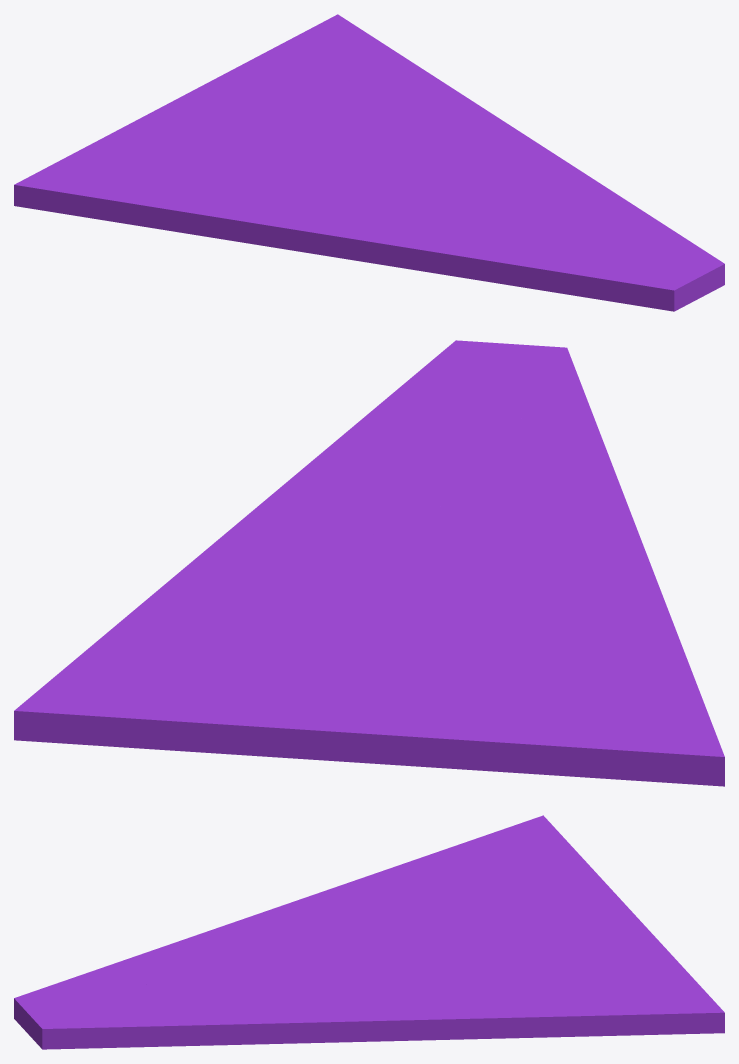
File: StairsStep_8_chunks.fbx
3 renders of one model, top to bottom at view 1: azimuth 30°, elevation 25°; view 2: azimuth 150°, elevation 25°; view 3: azimuth 270°, elevation 25°, orthographic. The views are drawn at different scales.
Parts seen in each view (by area): view 1: StairsStep_8_3, StairsStep_8_0, StairsStep_8_1, StairsStep_8_2; view 2: StairsStep_8_3, StairsStep_8_0, StairsStep_8_1, StairsStep_8_2; view 3: StairsStep_8_3, StairsStep_8_1, StairsStep_8_0, StairsStep_8_2.
Part boxes in pixels (left/top/right/bottom): StairsStep_8_3: left=54, top=14, right=524, bottom=189; StairsStep_8_0: left=14, top=164, right=483, bottom=281; StairsStep_8_1: left=453, top=135, right=724, bottom=311; StairsStep_8_2: left=418, top=183, right=649, bottom=296; StairsStep_8_3: left=14, top=531, right=637, bottom=779; StairsStep_8_0: left=456, top=491, right=724, bottom=786; StairsStep_8_1: left=228, top=340, right=572, bottom=535; StairsStep_8_2: left=415, top=362, right=622, bottom=547; StairsStep_8_3: left=335, top=839, right=724, bottom=1040; StairsStep_8_1: left=14, top=971, right=405, bottom=1049; StairsStep_8_0: left=199, top=815, right=565, bottom=956; StairsStep_8_2: left=33, top=934, right=338, bottom=991.
Size of the model in its own units: 401 by 17.94 by 563.
